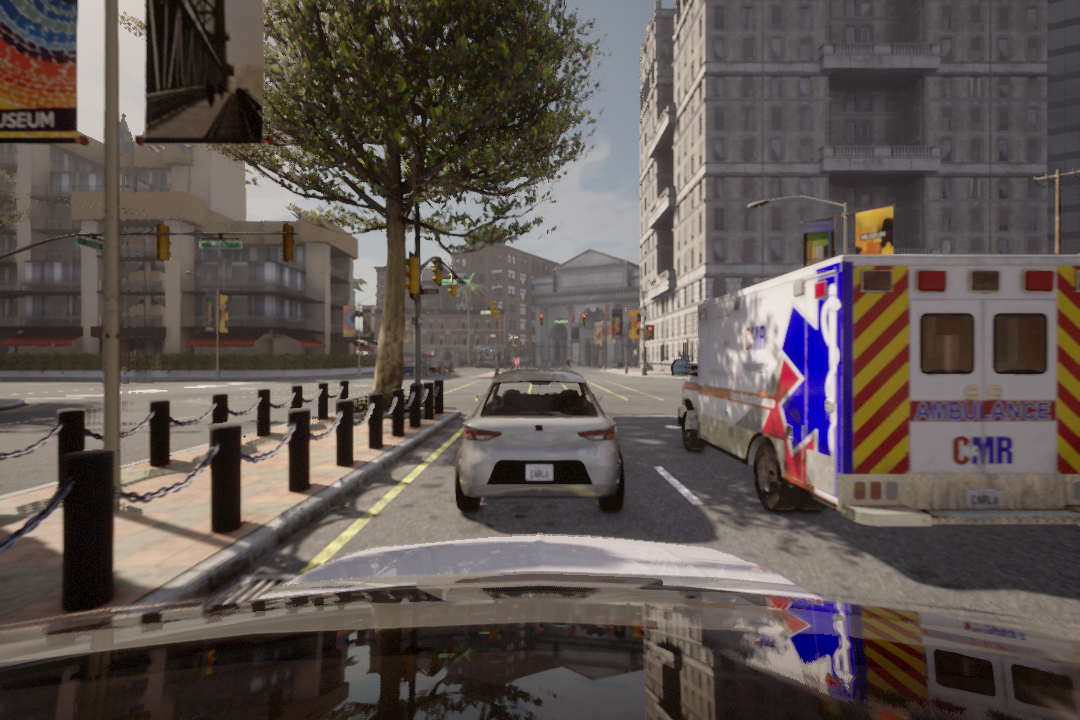TrafficLight: (647, 324, 656, 342), (539, 313, 546, 327), (581, 312, 587, 327)
